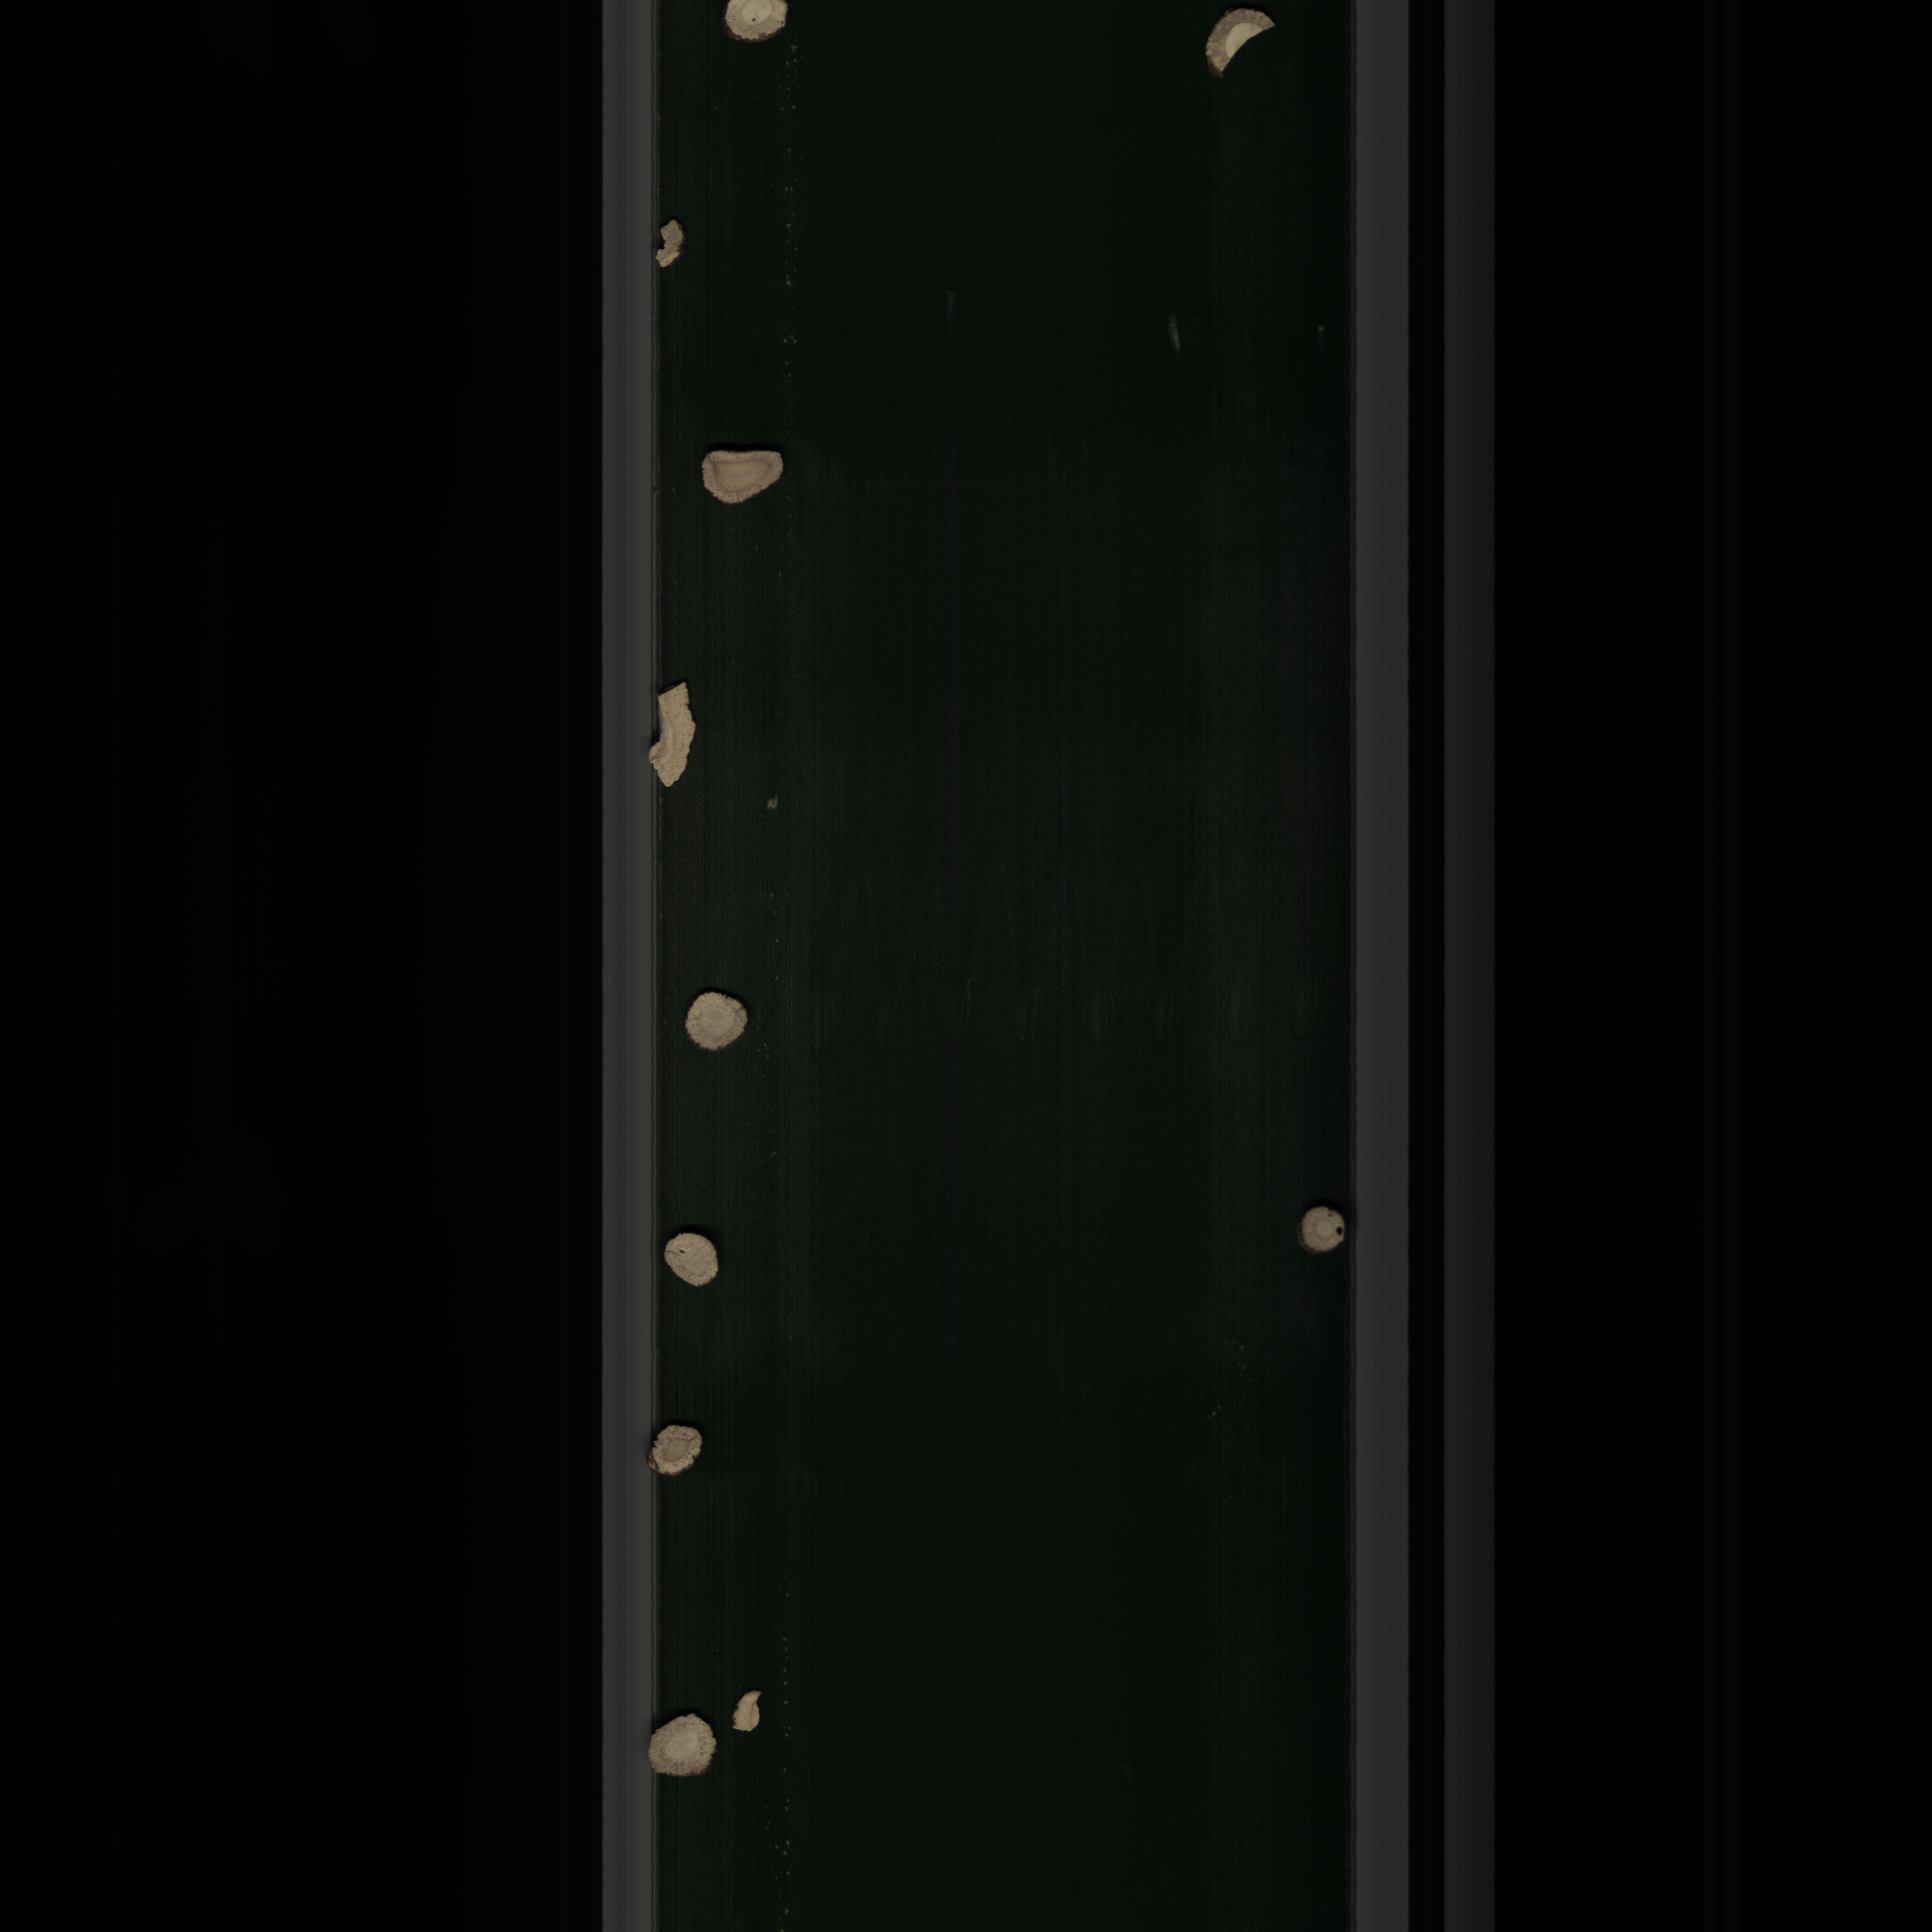debris: (642, 676, 709, 798), (1194, 7, 1283, 85), (727, 1690, 771, 1739), (653, 218, 686, 271)
hole: (1293, 1205, 1348, 1258)
